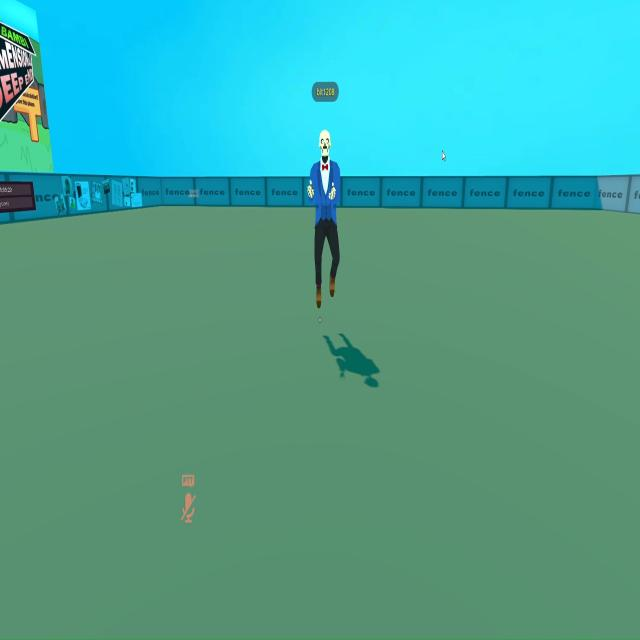human: (306, 120, 352, 314)
